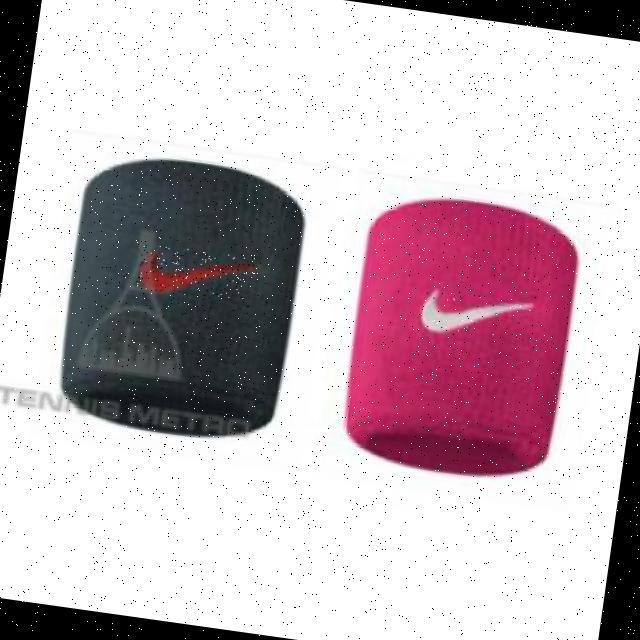Nike: (136, 243, 255, 304), (417, 286, 538, 344)
